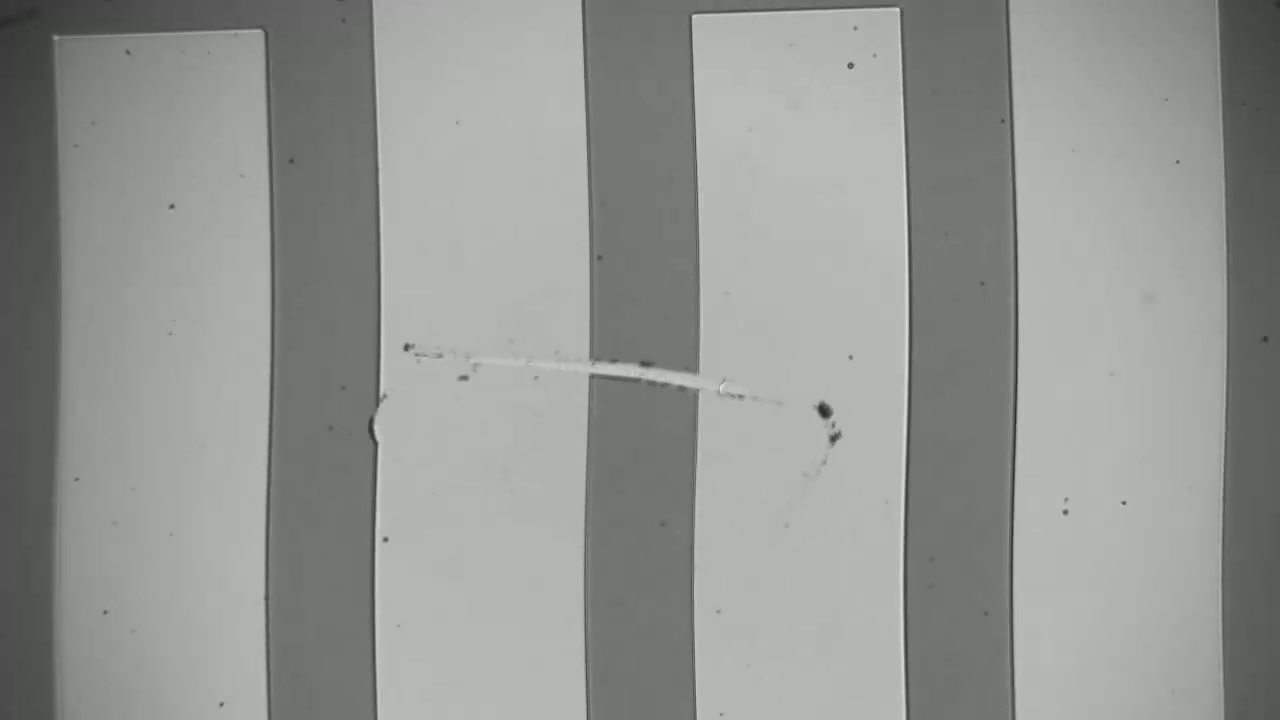Short_circuit: (564, 327, 725, 413)
